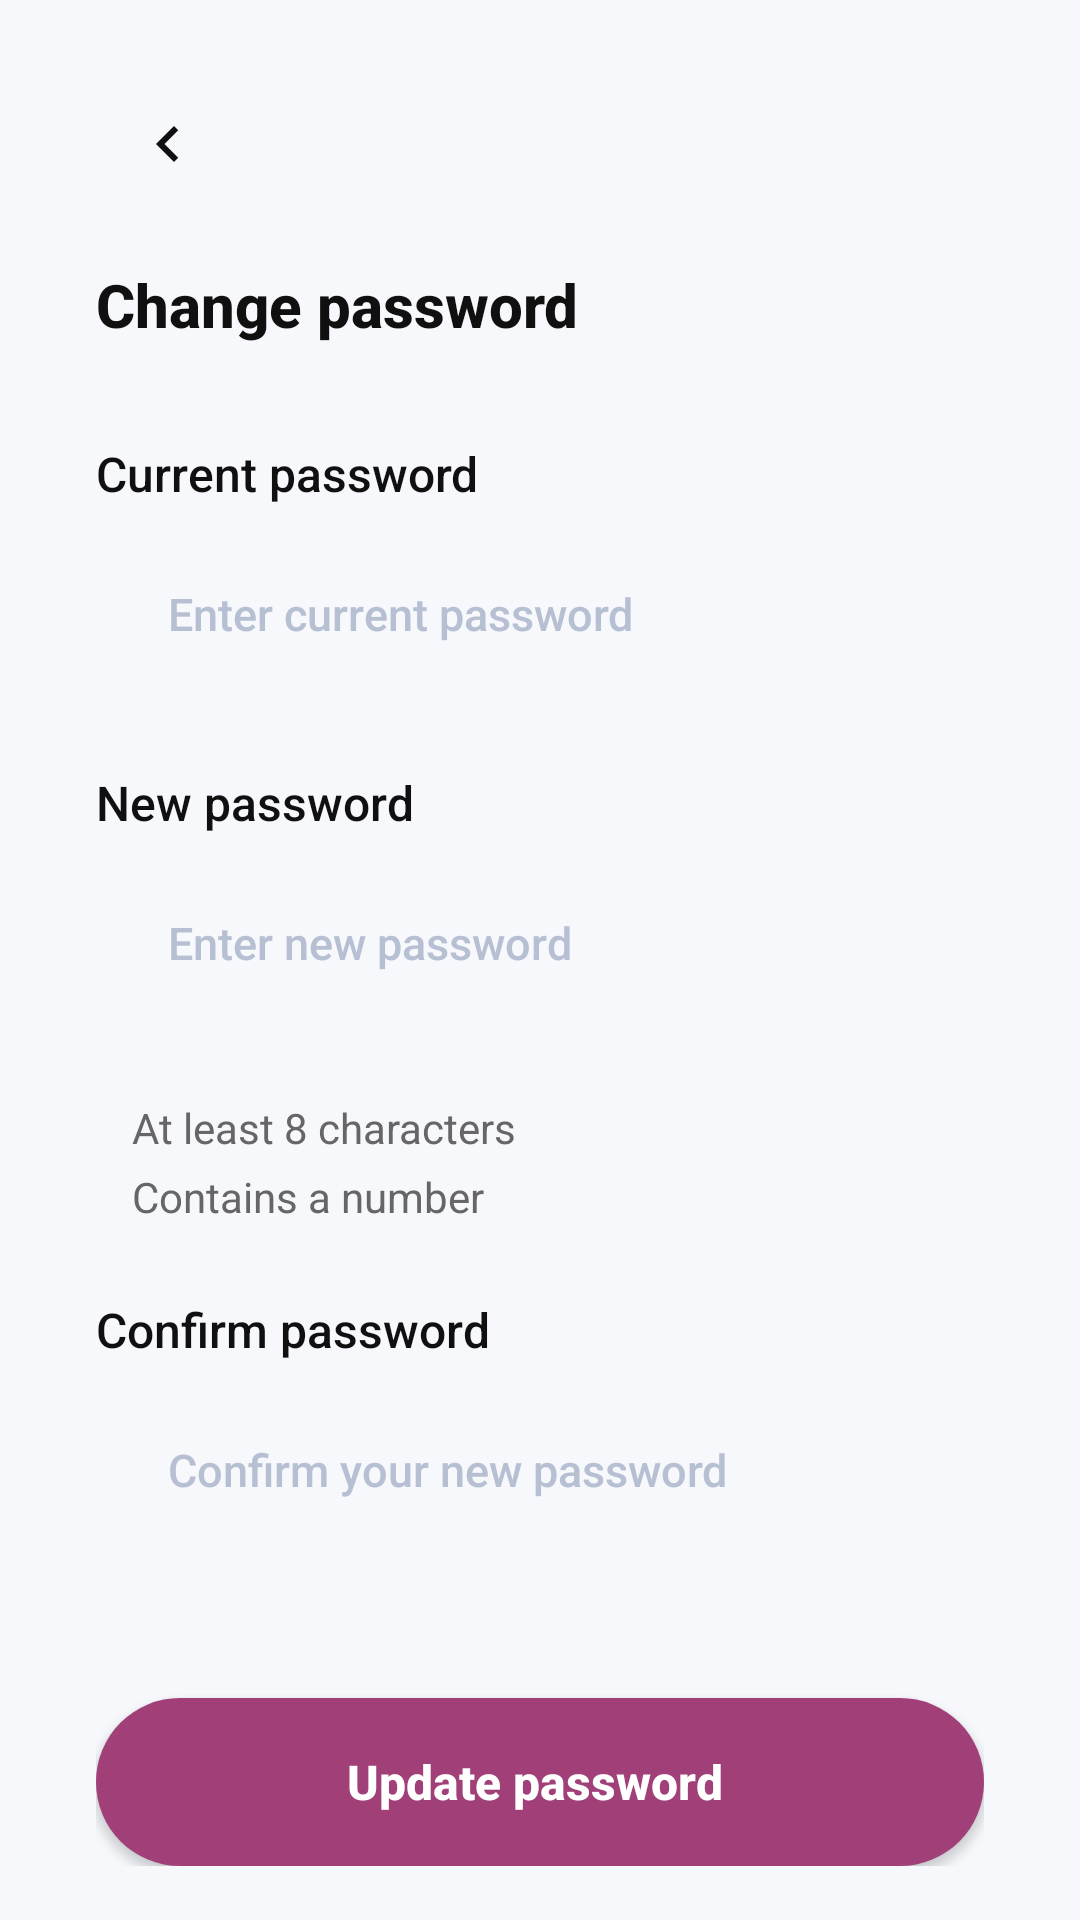

Locate icon controls on the screen. Image size 1080w x 1920h, boxes as detection(x1, y1, x2, y2).
Back: detection(156, 126, 178, 162)
